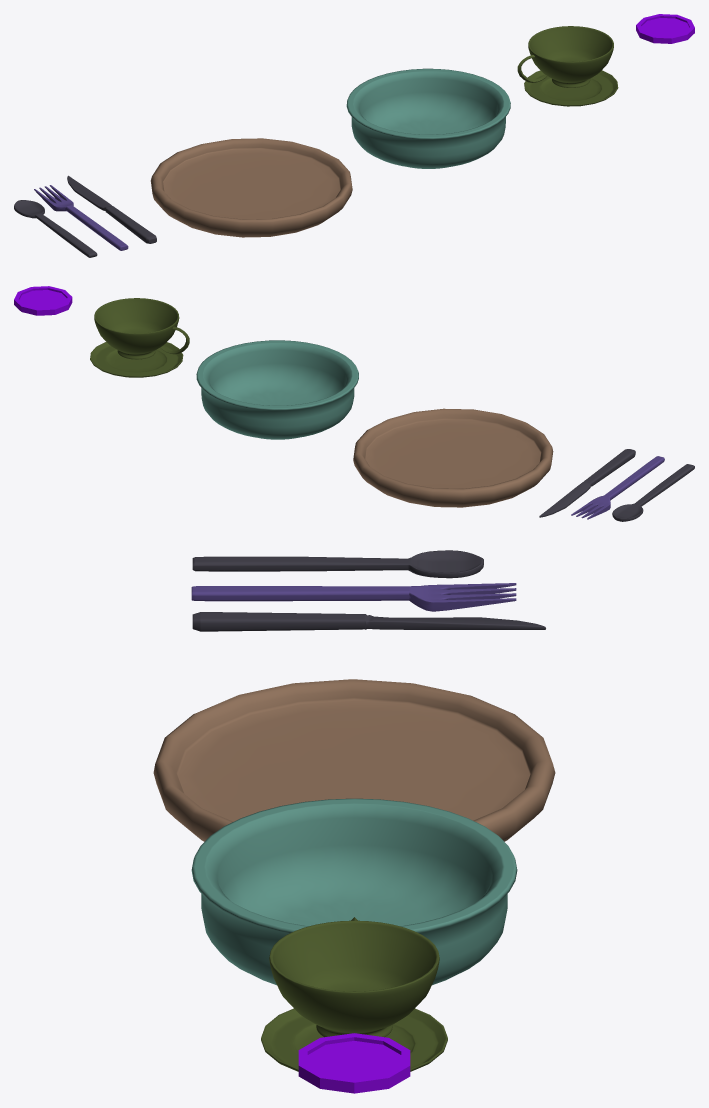
The model's file is EL_Dishware_Unwrapped.fbx.
3 views of the same model, one above another, from view 1: azimuth 30°, elevation 25°; view 2: azimuth 150°, elevation 25°; view 3: azimuth 270°, elevation 25° (orthographic). The views are drawn at different scales.
Visible parts, largest first — view 1: Dishware_Plate, Dishware_Bowl, Teacup_Cup, Dishware_Saucer, Dishware_Fork, Dishware_Knife, Dishware_Spoon, UVLense_Outside, UVLense_Inside; view 2: Dishware_Plate, Dishware_Bowl, Teacup_Cup, Dishware_Saucer, Dishware_Knife, Dishware_Fork, Dishware_Spoon, UVLense_Outside, UVLense_Inside; view 3: Dishware_Plate, Dishware_Bowl, Teacup_Cup, Dishware_Fork, Dishware_Knife, Dishware_Spoon, Dishware_Saucer, UVLense_Outside, UVLense_Inside.
Part boxes in pixels (x1,y1,x2,y2): Dishware_Plate: (150, 138, 352, 237); Dishware_Bowl: (346, 68, 510, 168); Teacup_Cup: (528, 26, 613, 87); Dishware_Saucer: (524, 70, 618, 106); Dishware_Fork: (34, 185, 128, 250); Dishware_Knife: (67, 175, 156, 243); Dishware_Spoon: (14, 200, 97, 257); UVLense_Outside: (636, 14, 694, 43); UVLense_Inside: (641, 18, 689, 36); Dishware_Plate: (353, 408, 553, 507); Dishware_Bowl: (196, 340, 358, 439); Teacup_Cup: (94, 298, 179, 359); Dishware_Saucer: (90, 342, 183, 377); Dishware_Knife: (539, 449, 635, 517); Dishware_Fork: (571, 456, 664, 519); Dishware_Spoon: (612, 464, 694, 521); UVLense_Outside: (14, 286, 72, 315); UVLense_Inside: (19, 290, 66, 308); Dishware_Plate: (153, 679, 555, 841); Dishware_Bowl: (191, 798, 517, 985); Teacup_Cup: (269, 920, 439, 1037); Dishware_Fork: (191, 583, 516, 611); Dishware_Knife: (192, 612, 545, 631); Dishware_Spoon: (192, 550, 483, 578); Dishware_Saucer: (261, 1008, 447, 1071); UVLense_Outside: (298, 1033, 410, 1093); UVLense_Inside: (307, 1041, 401, 1078).
Bounding box in the file's own units: 7.05 × 0.8103 × 1.9.
